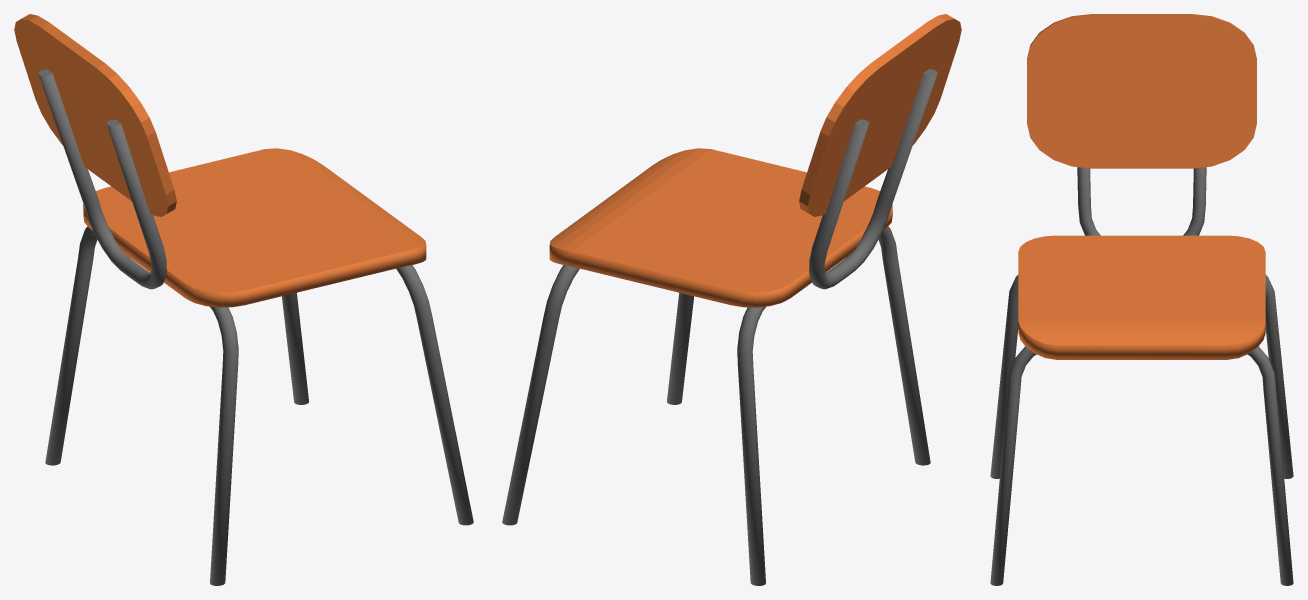
File: chair.fbx
3 views of the same model, side by side, from view 1: azimuth 30°, elevation 25°; view 2: azimuth 150°, elevation 25°; view 3: azimuth 270°, elevation 25° (orthographic). The views are drawn at different scales.
Visible parts, largest first — view 1: chair; view 2: chair; view 3: chair.
Part boxes in pixels (bbox=[...]): chair: bbox=[14, 14, 473, 585]; chair: bbox=[502, 14, 961, 585]; chair: bbox=[990, 14, 1293, 585].
Bounding box in the file's own units: 412 × 604 × 381.
